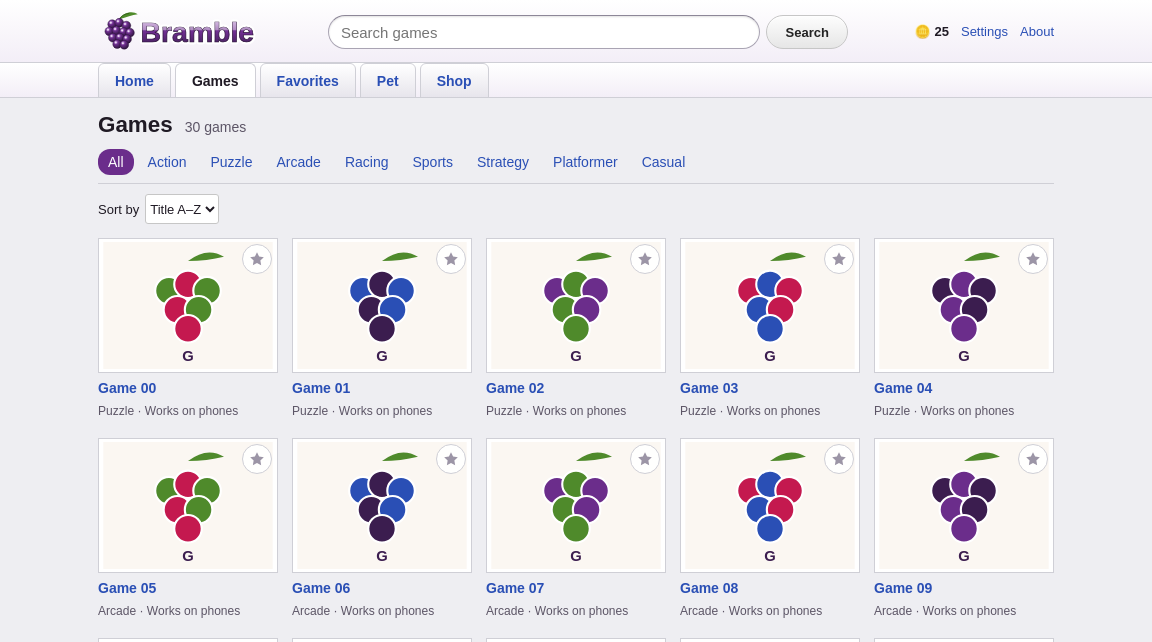
LibraryPage › sort select changes order
This screenshot has width=1152, height=642.
Select "Title Z–A" in the dropdown labelled "Sort by". click: (182, 210)
box: left=145, top=194, right=219, bottom=224
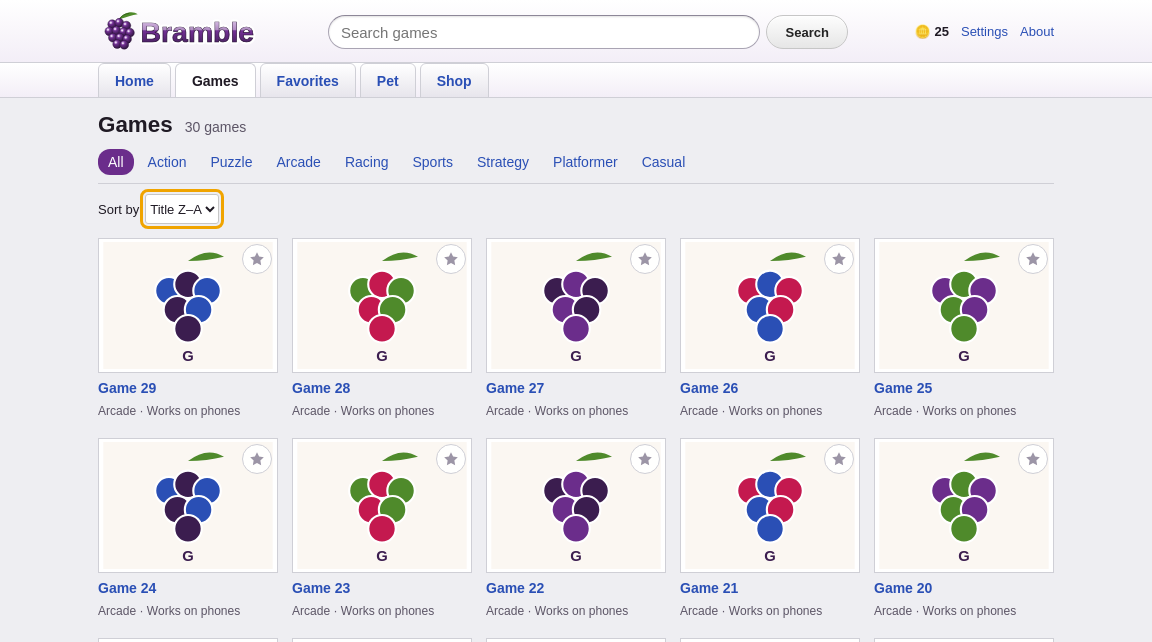
Result: the element showing "G Game 29 arcade · Works on phones" is shown at left=98, top=238, right=278, bottom=420
